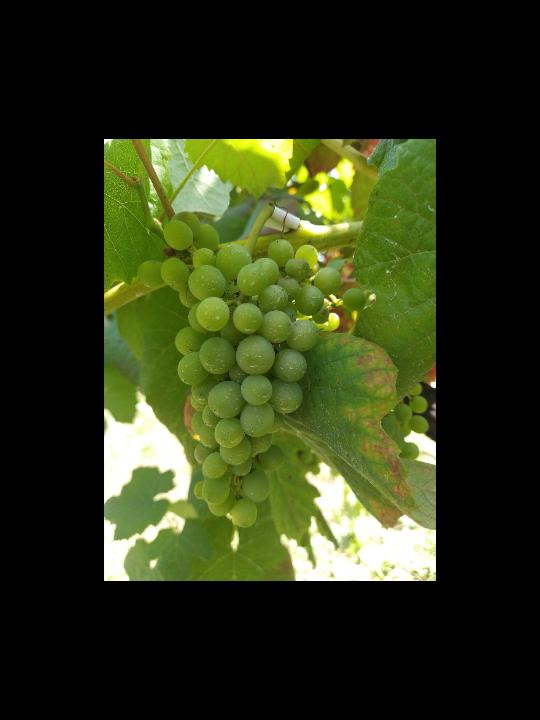grape: (134, 209, 366, 533)
